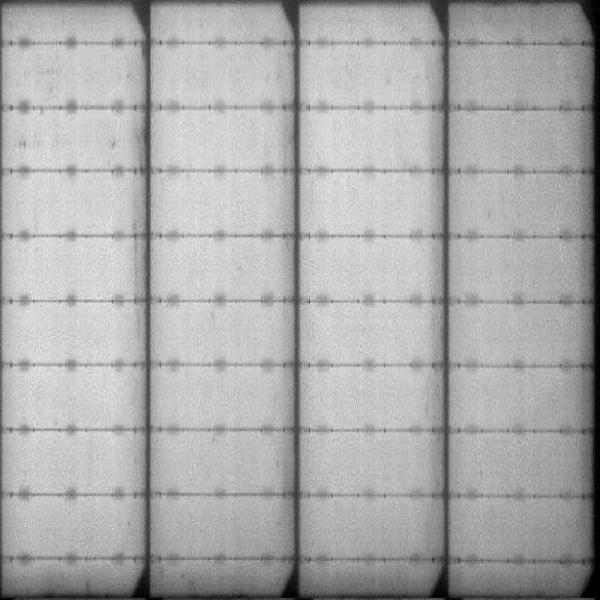scratch: (128, 214, 144, 293)
